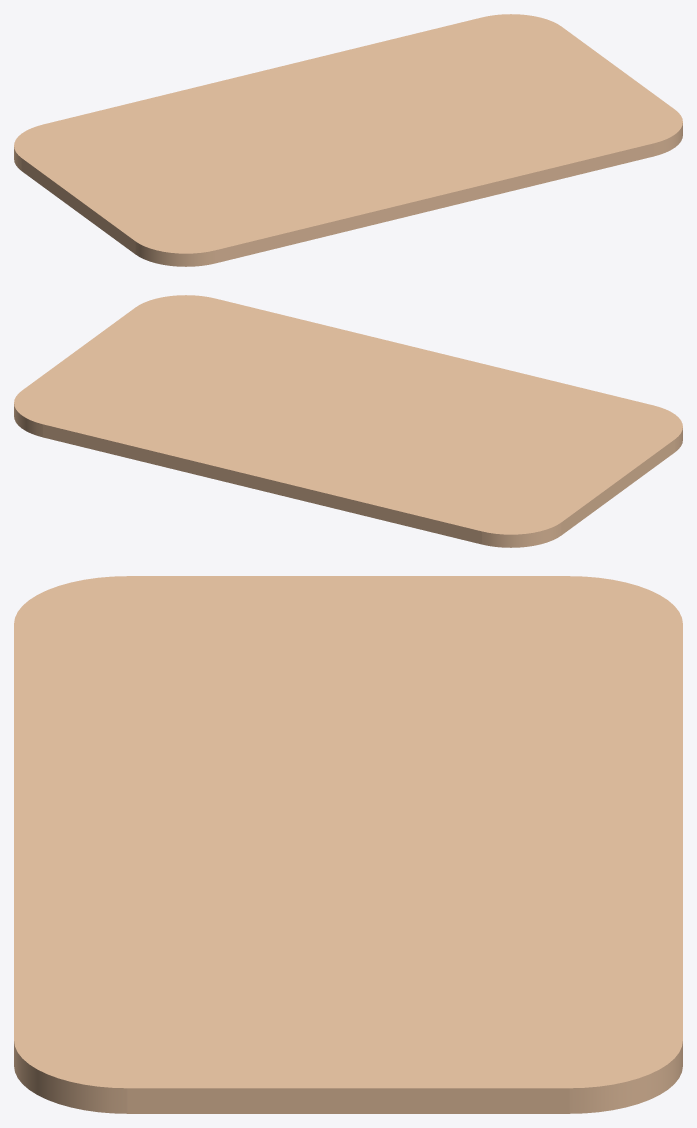
Rendered from rugDoormat.glb.
The picture shows the model from 3 angles, top to bottom: view 1: azimuth 30°, elevation 25°; view 2: azimuth 150°, elevation 25°; view 3: azimuth 270°, elevation 25°; orthographic projection. The views are drawn at different scales.
Visible parts, largest first — view 1: rugDoormat(Clone); view 2: rugDoormat(Clone); view 3: rugDoormat(Clone).
Boxes of the visible parts, bbox=[...] form: rugDoormat(Clone): bbox=[14, 14, 682, 266]; rugDoormat(Clone): bbox=[14, 295, 682, 547]; rugDoormat(Clone): bbox=[14, 576, 682, 1113].
Size of the model in its own units: 0.8586 by 0.02 by 0.474.
